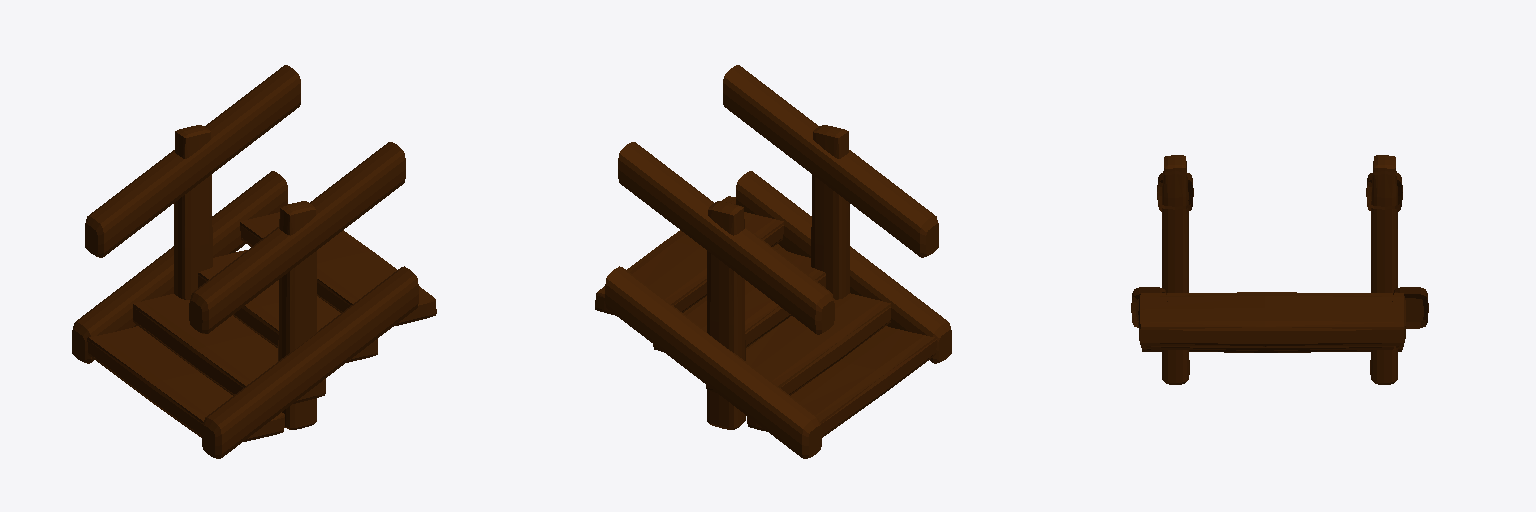
Rendered from Stairs_Modular_Start.obj.
3 renders of one model, left to right at view 1: azimuth 30°, elevation 25°; view 2: azimuth 150°, elevation 25°; view 3: azimuth 270°, elevation 25°, orthographic.
Visible parts, largest first — view 1: Stairs_Modular_Start_Cube.058; view 2: Stairs_Modular_Start_Cube.058; view 3: Stairs_Modular_Start_Cube.058.
Part boxes in pixels (x1,y1,x2,y2): Stairs_Modular_Start_Cube.058: (72, 65, 436, 458); Stairs_Modular_Start_Cube.058: (595, 65, 951, 458); Stairs_Modular_Start_Cube.058: (1131, 155, 1428, 384).
Size of the model in its own units: 2.24 by 2.43 by 2.56.